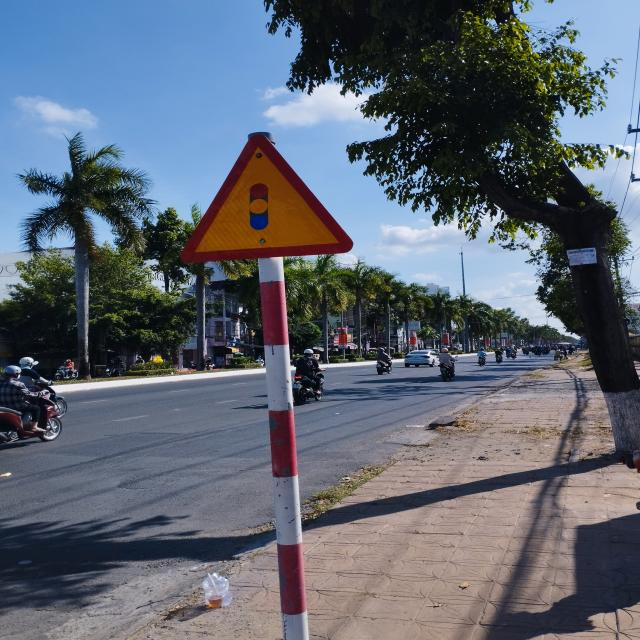Duong_Co_Go_Giam_Toc: (176, 133, 355, 264)
